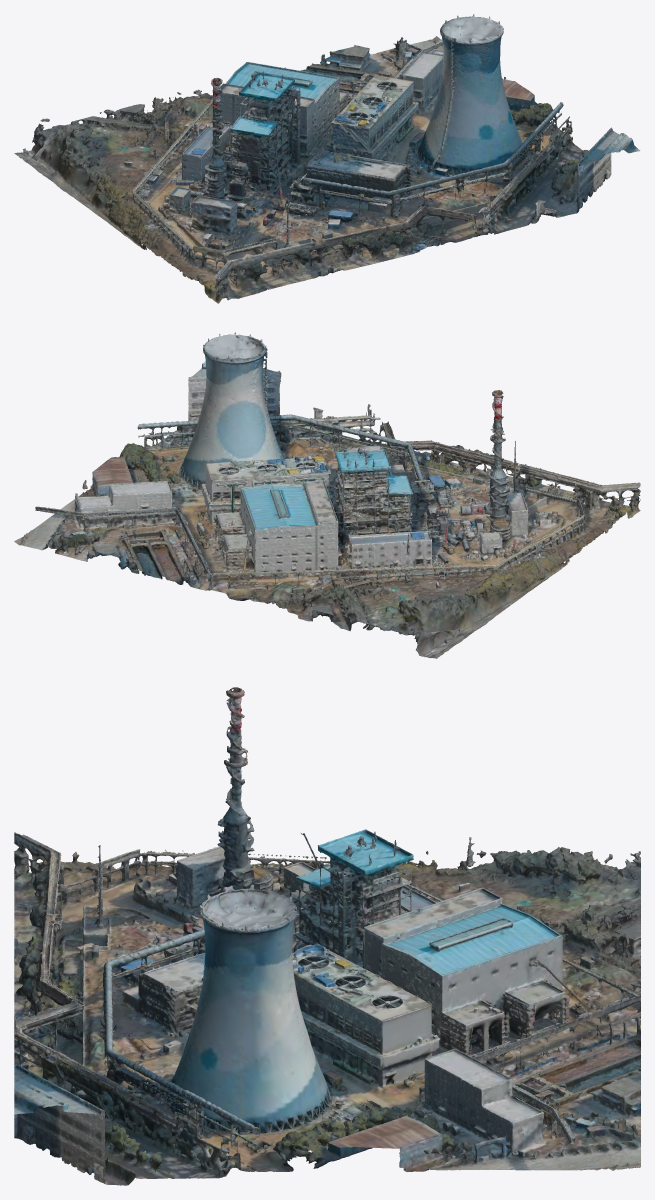
Rendered from nuklir.glb.
3 views of the same model, one above another, from view 1: azimuth 30°, elevation 25°; view 2: azimuth 150°, elevation 25°; view 3: azimuth 270°, elevation 25° (orthographic). The views are drawn at different scales.
Visible parts, largest first — view 1: Object_2; view 2: Object_2; view 3: Object_2.
Part boxes in pixels (x1,y1,x2,y2): Object_2: (14, 14, 640, 303); Object_2: (14, 332, 640, 658); Object_2: (14, 687, 640, 1185).
Size of the model in its own units: 251 by 87.97 by 210.
Materials: 1 (1 with a texture image).
